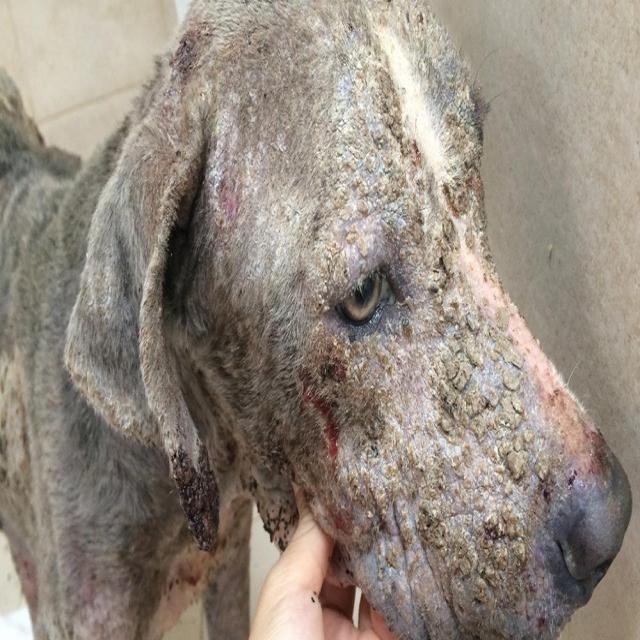allergic dermatitis: (434, 245, 598, 480), (275, 338, 362, 477), (200, 167, 248, 250)
